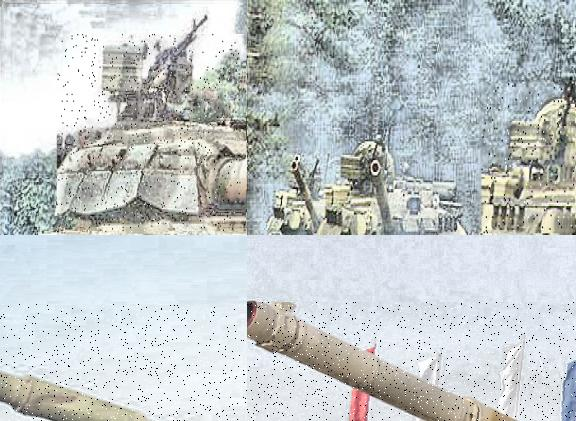tanks: (58, 35, 242, 235), (248, 303, 515, 421), (315, 139, 467, 236), (484, 85, 575, 234), (1, 374, 152, 421), (268, 158, 326, 236)
